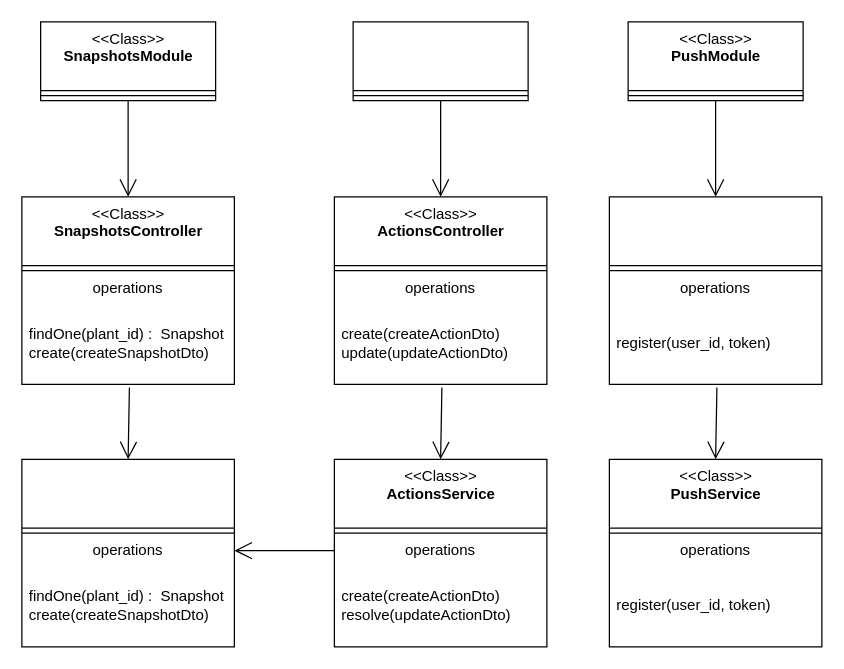
Image size: 844x669. Some labels were removed from this diagram. The box of each missing label's shape, as (x1, y1, x2, y2) in pixels:
<<Class>> ActionsModule: (352, 21, 528, 101)
<<Class>> PushController: (608, 196, 822, 384)
<<Class>> SnapshotsService: (21, 458, 234, 647)
